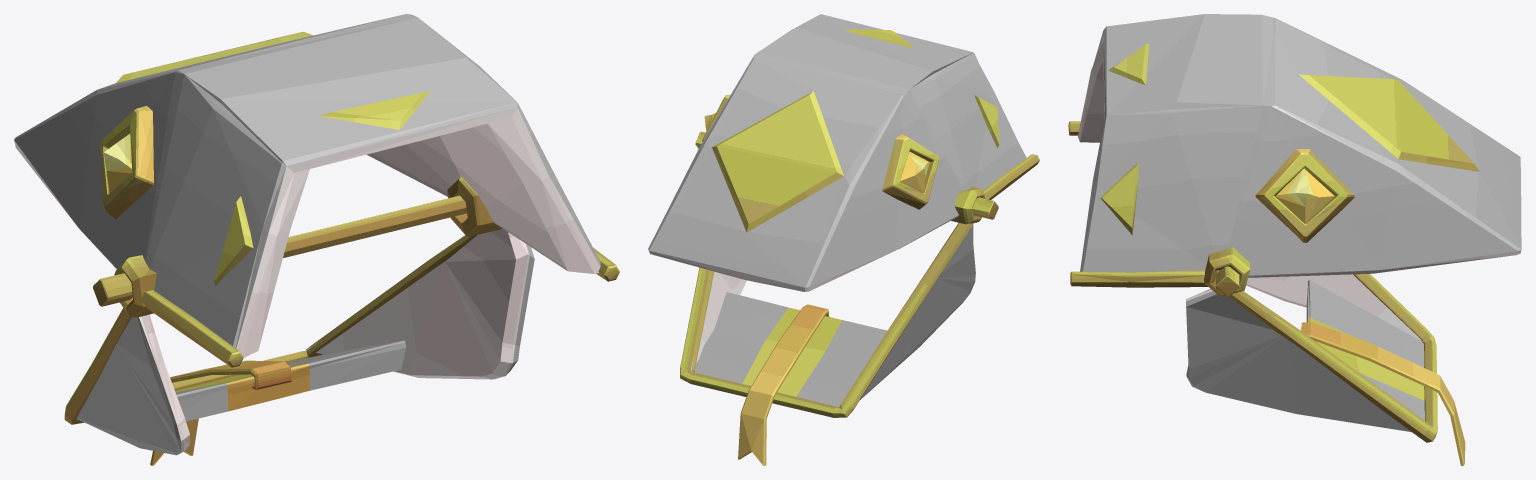
File: CharSkyKid_Prop_SnakeGameHead.glb
3 renders of one model, left to right at view 1: azimuth 30°, elevation 25°; view 2: azimuth 150°, elevation 25°; view 3: azimuth 270°, elevation 25°, orthographic. The views are drawn at different scales.
Parts seen in each view (by area): view 1: CharSkyKid_Prop_SnakeGameHead; view 2: CharSkyKid_Prop_SnakeGameHead; view 3: CharSkyKid_Prop_SnakeGameHead.
Part boxes in pixels (x1,y1,x2,y2): CharSkyKid_Prop_SnakeGameHead: (14, 14, 619, 465); CharSkyKid_Prop_SnakeGameHead: (648, 14, 1039, 465); CharSkyKid_Prop_SnakeGameHead: (1068, 14, 1521, 465).
Size of the model in its own units: 16.71 by 18.01 by 18.48.
1 material, 1 textured.
